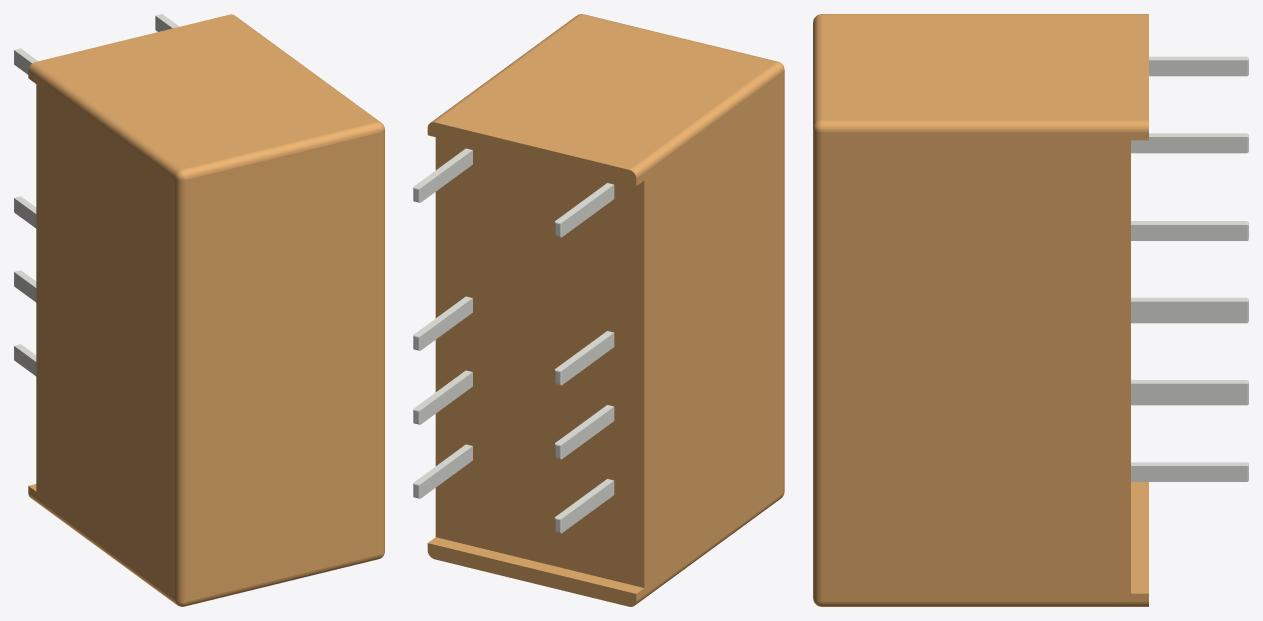
The model's file is Relay_DPDT_Kemet_EC2_NJ.glb.
3 views of the same model, side by side, from view 1: azimuth 30°, elevation 25°; view 2: azimuth 150°, elevation 25°; view 3: azimuth 270°, elevation 25° (orthographic). The views are drawn at different scales.
Parts seen in each view (by area): view 1: Shape_IndexedFaceSet, Shape_IndexedFaceSet.009, Shape_IndexedFaceSet.006, Shape_IndexedFaceSet.002, Shape_IndexedFaceSet.001, Shape_IndexedFaceSet.013, Shape_IndexedFaceSet.003, Shape_IndexedFaceSet.004, Shape_IndexedFaceSet.016; view 2: Shape_IndexedFaceSet.019, Shape_IndexedFaceSet.009, Shape_IndexedFaceSet.006, Shape_IndexedFaceSet.015, Shape_IndexedFaceSet.018, Shape_IndexedFaceSet.013, Shape_IndexedFaceSet.020, Shape_IndexedFaceSet.002, Shape_IndexedFaceSet.029, Shape_IndexedFaceSet.049, Shape_IndexedFaceSet.069, Shape_IndexedFaceSet.089 (+6 smaller); view 3: Shape_IndexedFaceSet.010, Shape_IndexedFaceSet.006, Shape_IndexedFaceSet.014, Shape_IndexedFaceSet.003, Shape_IndexedFaceSet.020, Shape_IndexedFaceSet.052, Shape_IndexedFaceSet.072, Shape_IndexedFaceSet.021, Shape_IndexedFaceSet.092, Shape_IndexedFaceSet.032, Shape_IndexedFaceSet.082, Shape_IndexedFaceSet.102 (+4 smaller).
Part boxes in pixels (x1,y1,x2,y2): Shape_IndexedFaceSet: (186, 132, 380, 601); Shape_IndexedFaceSet.009: (28, 71, 175, 600); Shape_IndexedFaceSet.006: (35, 14, 376, 169); Shape_IndexedFaceSet.002: (175, 179, 186, 602); Shape_IndexedFaceSet.001: (182, 122, 380, 179); Shape_IndexedFaceSet.013: (28, 62, 181, 178); Shape_IndexedFaceSet.003: (381, 130, 384, 553); Shape_IndexedFaceSet.004: (185, 554, 380, 606); Shape_IndexedFaceSet.016: (28, 493, 176, 604); Shape_IndexedFaceSet.019: (435, 137, 644, 587); Shape_IndexedFaceSet.009: (636, 71, 783, 600); Shape_IndexedFaceSet.006: (435, 15, 775, 169); Shape_IndexedFaceSet.015: (427, 122, 636, 185); Shape_IndexedFaceSet.018: (427, 543, 636, 606); Shape_IndexedFaceSet.013: (630, 62, 783, 178); Shape_IndexedFaceSet.020: (428, 537, 643, 593); Shape_IndexedFaceSet.002: (783, 70, 784, 493); Shape_IndexedFaceSet.029: (420, 446, 472, 498); Shape_IndexedFaceSet.049: (420, 372, 472, 424); Shape_IndexedFaceSet.069: (420, 298, 472, 350); Shape_IndexedFaceSet.089: (420, 150, 472, 202); Shape_IndexedFaceSet.010: (822, 132, 1148, 601); Shape_IndexedFaceSet.006: (822, 14, 1148, 120); Shape_IndexedFaceSet.014: (822, 120, 1148, 132); Shape_IndexedFaceSet.003: (813, 129, 821, 601); Shape_IndexedFaceSet.020: (1131, 482, 1148, 593); Shape_IndexedFaceSet.052: (1131, 383, 1247, 399); Shape_IndexedFaceSet.072: (1131, 301, 1247, 317); Shape_IndexedFaceSet.021: (822, 601, 1148, 606); Shape_IndexedFaceSet.092: (1131, 137, 1247, 153); Shape_IndexedFaceSet.032: (1131, 466, 1247, 481); Shape_IndexedFaceSet.082: (1131, 225, 1247, 240); Shape_IndexedFaceSet.102: (1149, 60, 1247, 76).
Bounding box in the file's own units: 2.95 × 5.91 × 4.8.
